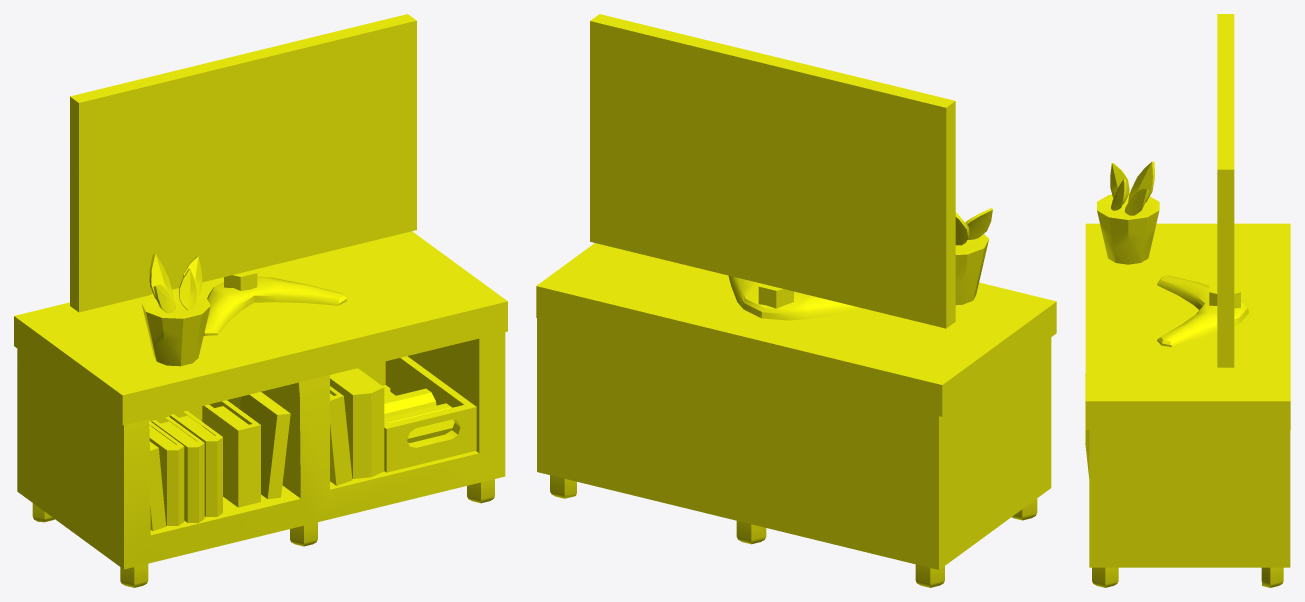
The picture shows the model from 3 angles, left to right: view 1: azimuth 30°, elevation 25°; view 2: azimuth 150°, elevation 25°; view 3: azimuth 270°, elevation 25°; orthographic projection. The views are drawn at different scales.
Visible parts, largest first — view 1: nordic_tv; view 2: nordic_tv; view 3: nordic_tv.
Boxes of the visible parts, <box> form: nordic_tv: <box>14,14,507,587</box>; nordic_tv: <box>536,14,1056,587</box>; nordic_tv: <box>1085,14,1290,587</box>.
Size of the model in its own units: 0.015 by 0.0162 by 0.00731.
Materials: 1 (1 with a texture image).
